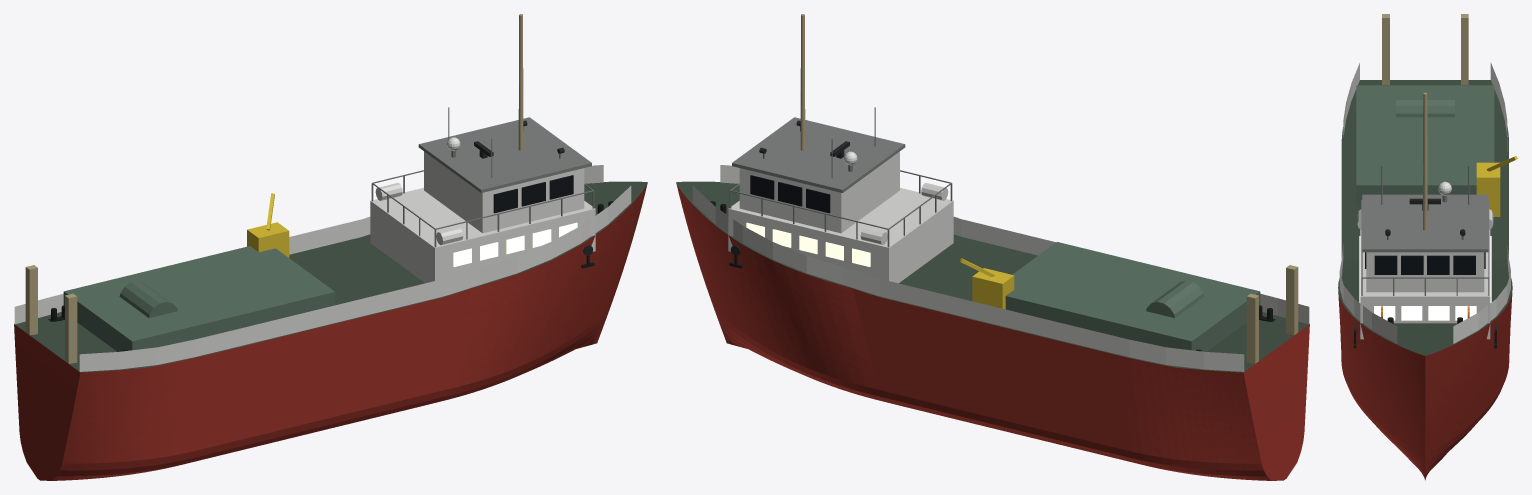
The model's file is fisher35.glb.
3 views of the same model, side by side, from view 1: azimuth 30°, elevation 25°; view 2: azimuth 150°, elevation 25°; view 3: azimuth 270°, elevation 25° (orthographic).
Parts seen in each view (by area): view 1: fisher35; view 2: fisher35; view 3: fisher35.
Boxes of the visible parts, x1,y1,x2,y2 form: fisher35: (14,14,647,480); fisher35: (676,14,1309,480); fisher35: (1338,14,1517,480).
Bounding box in the file's own units: 36 × 19.6 × 9.12.
